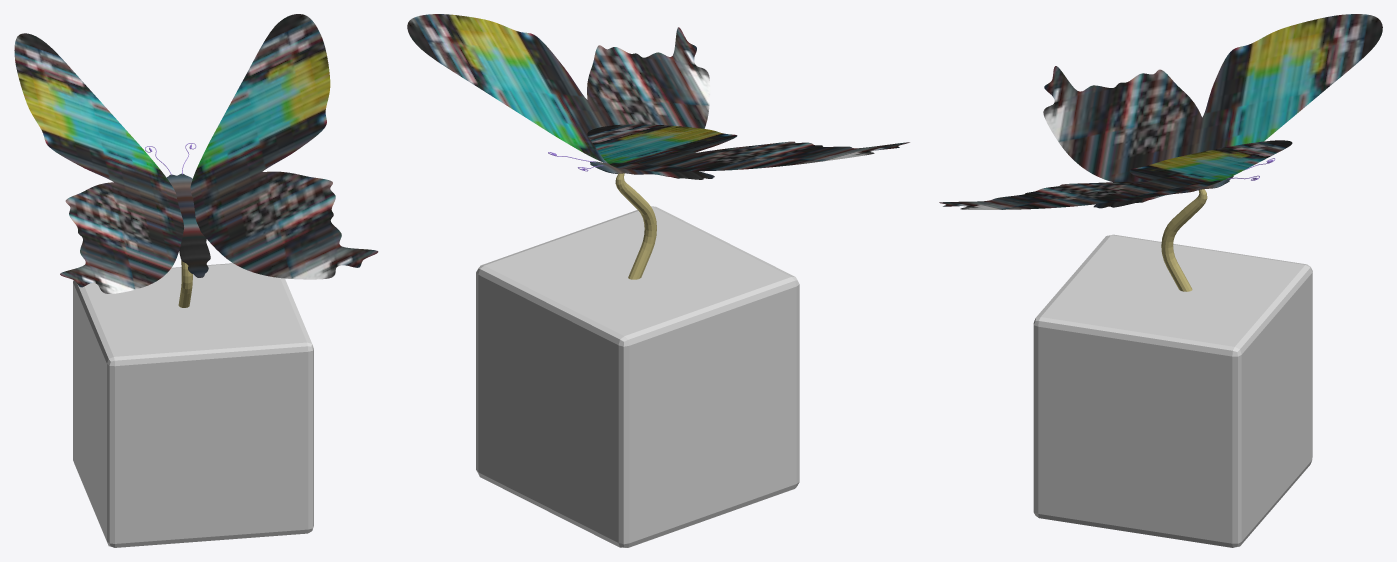
Rendered from mariposa.gltf.
The picture shows the model from 3 angles, left to right: view 1: azimuth 30°, elevation 25°; view 2: azimuth 150°, elevation 25°; view 3: azimuth 270°, elevation 25°; orthographic projection. The views are drawn at different scales.
Parts seen in each view (by area): view 1: mariposa; view 2: mariposa; view 3: mariposa.
Part boxes in pixels (<box>): mariposa: <box>14,14,378,547</box>; mariposa: <box>407,14,909,547</box>; mariposa: <box>939,14,1382,547</box>.
Size of the model in its own units: 95.93 by 108 by 100.
Materials: 4 (3 with a texture image).
